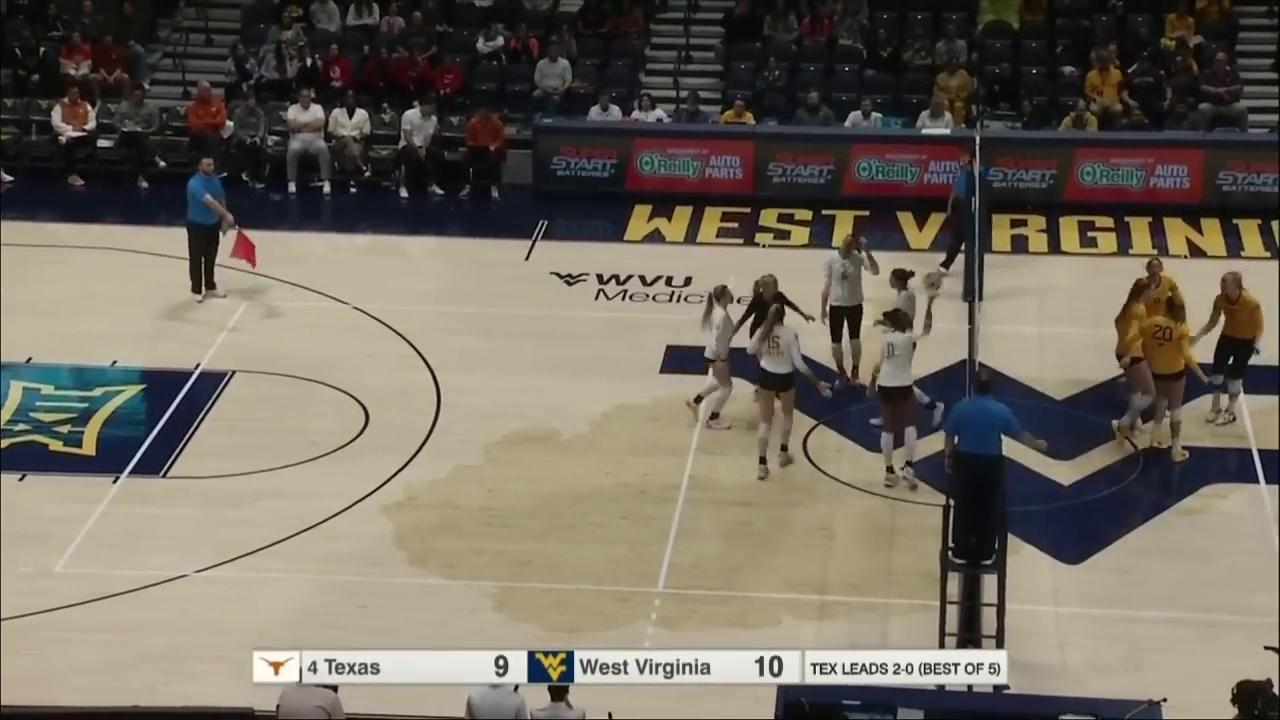player: (869, 267, 944, 430), (1196, 271, 1266, 431), (1144, 293, 1206, 466), (875, 305, 925, 489), (753, 303, 803, 481), (737, 270, 795, 419), (1106, 275, 1154, 442), (819, 226, 868, 389), (1139, 255, 1187, 421), (687, 282, 739, 431)
refree: (949, 367, 1044, 565), (183, 154, 247, 305), (937, 147, 995, 281)
